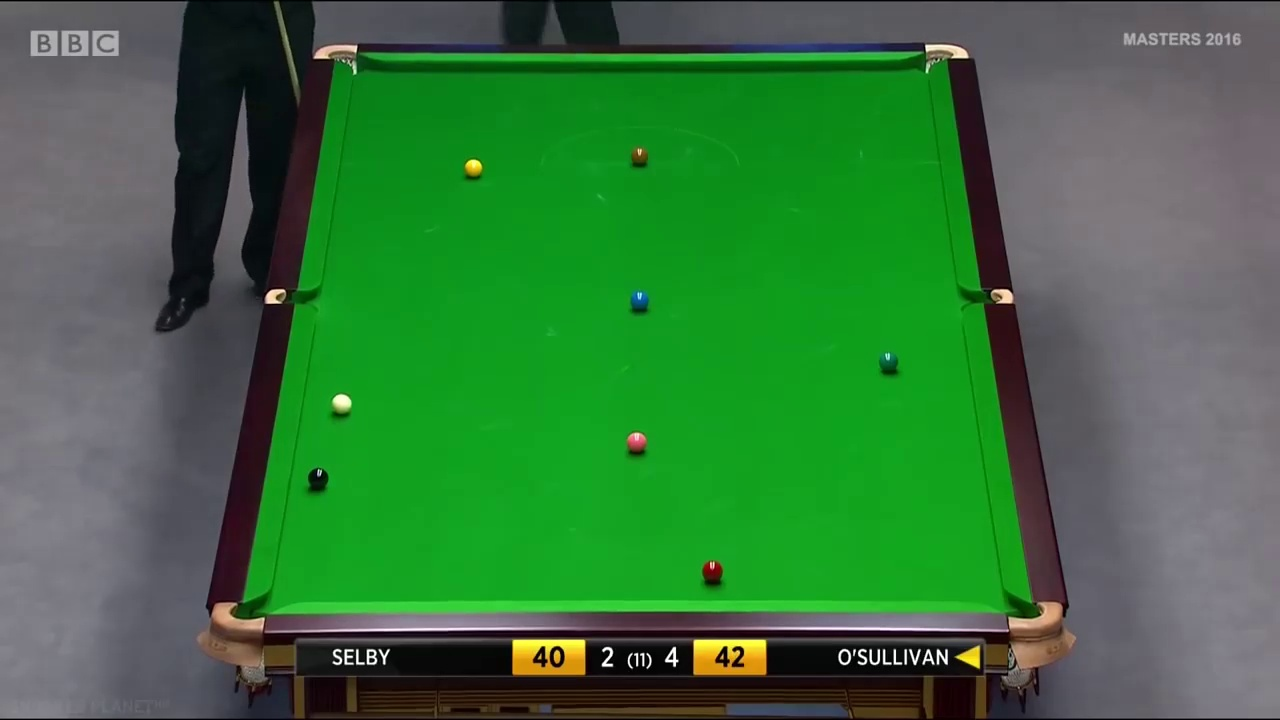ball: (625, 429, 649, 456), (329, 392, 353, 417), (699, 559, 723, 584), (304, 465, 327, 490), (629, 288, 648, 312), (878, 349, 898, 371), (631, 144, 649, 164), (464, 157, 480, 178)
